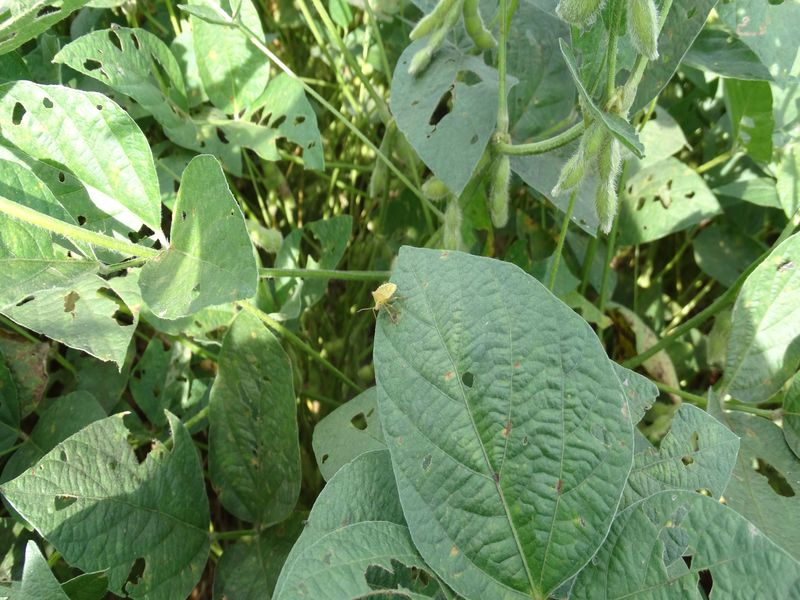Euschistus_heros_ninfa: (353, 281, 412, 325)
